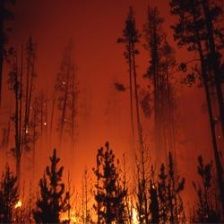fire: (123, 187, 149, 224), (11, 190, 27, 213)
